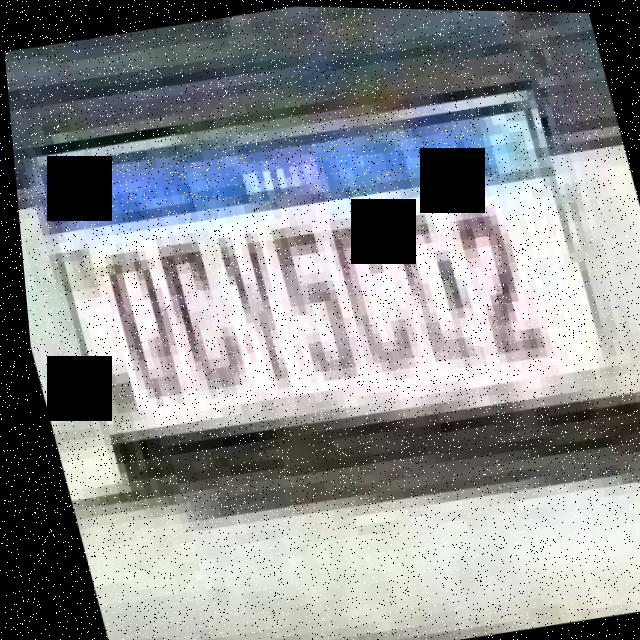0: (385, 198, 479, 374)
5: (255, 215, 358, 392)
C: (321, 206, 419, 376), (150, 228, 246, 396)
Q: (91, 238, 187, 412)
Y: (201, 217, 295, 392)
